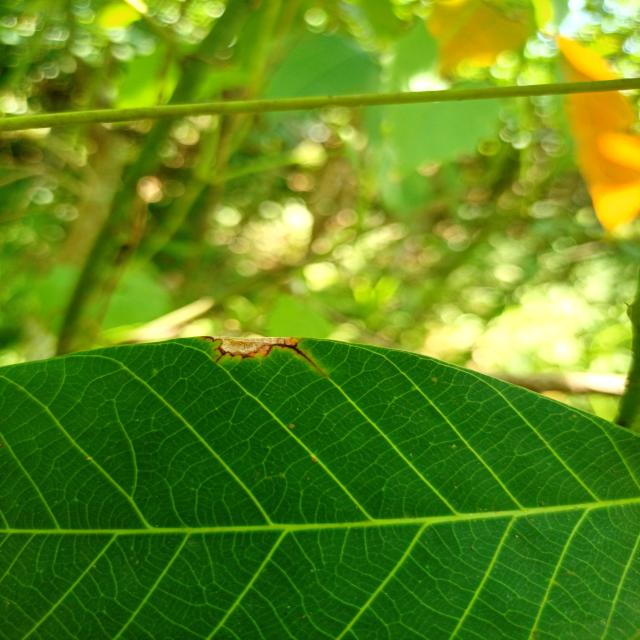Corynespora: (212, 342, 328, 375)
Leaf-Blight: (213, 330, 297, 353)
